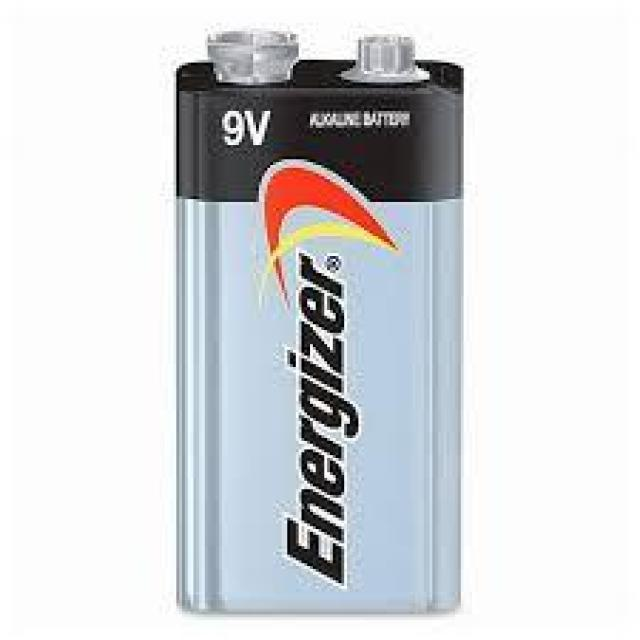9V: (146, 24, 485, 627)
